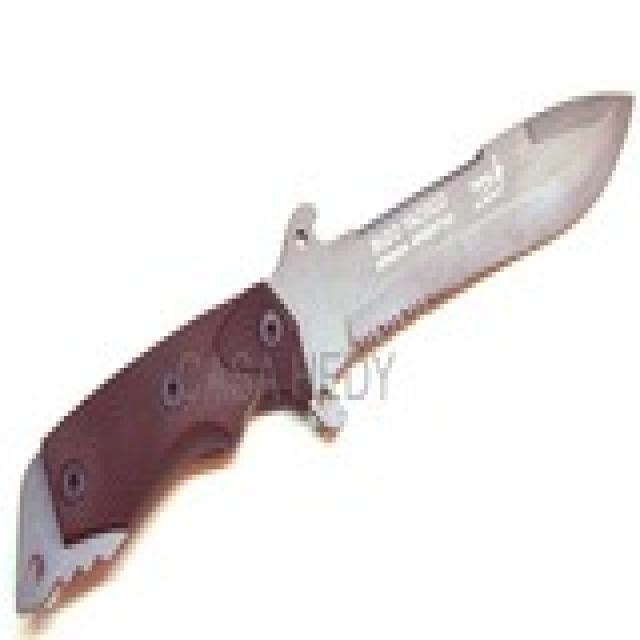Knife: (11, 81, 634, 628)
